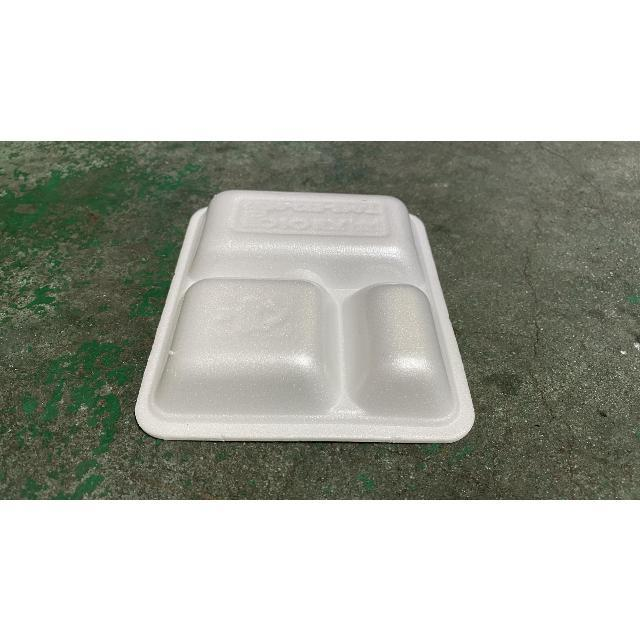Plastico descartable: (135, 190, 477, 446)
